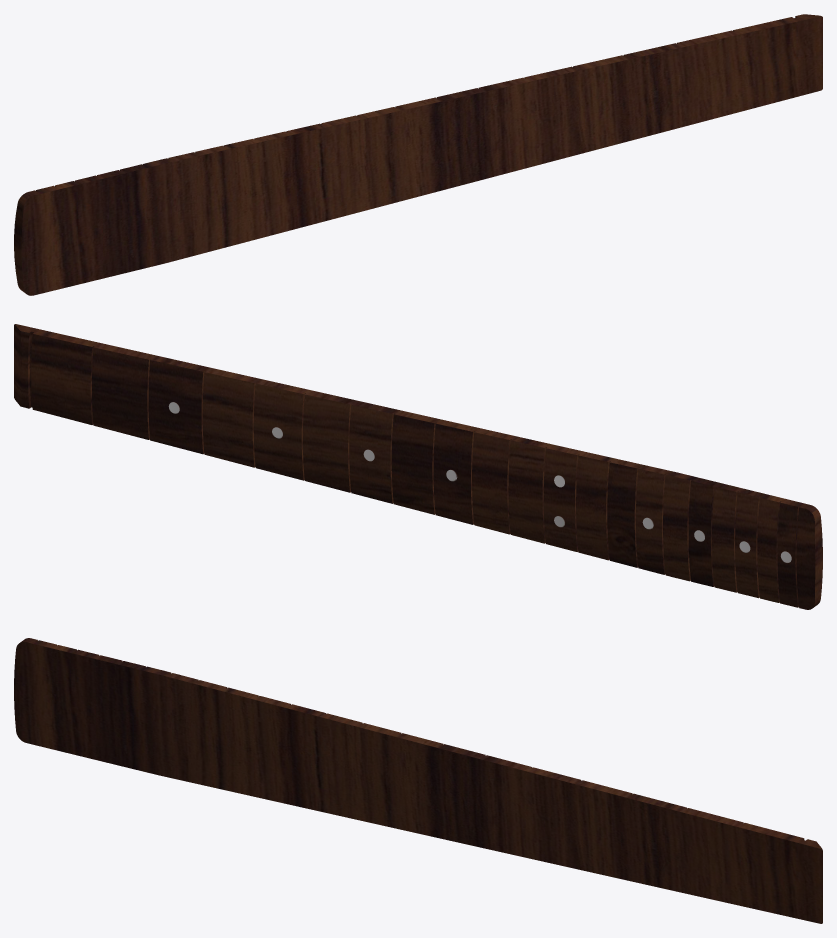
Rendered from rose_finger.dae.
3 views of the same model, one above another, from view 1: azimuth 30°, elevation 25°; view 2: azimuth 150°, elevation 25°; view 3: azimuth 330°, elevation 25° (orthographic).
Parts seen in each view (by area): view 1: Fingerboard; view 2: Fingerboard; view 3: Fingerboard.
Boxes of the visible parts, box(x1,y1,x2,y2) form: Fingerboard: box(14, 14, 822, 295); Fingerboard: box(14, 324, 822, 609); Fingerboard: box(14, 638, 822, 923).
Size of the model in its own units: 480 by 8.3 by 57.24.
Materials: 1 (1 with a texture image).
